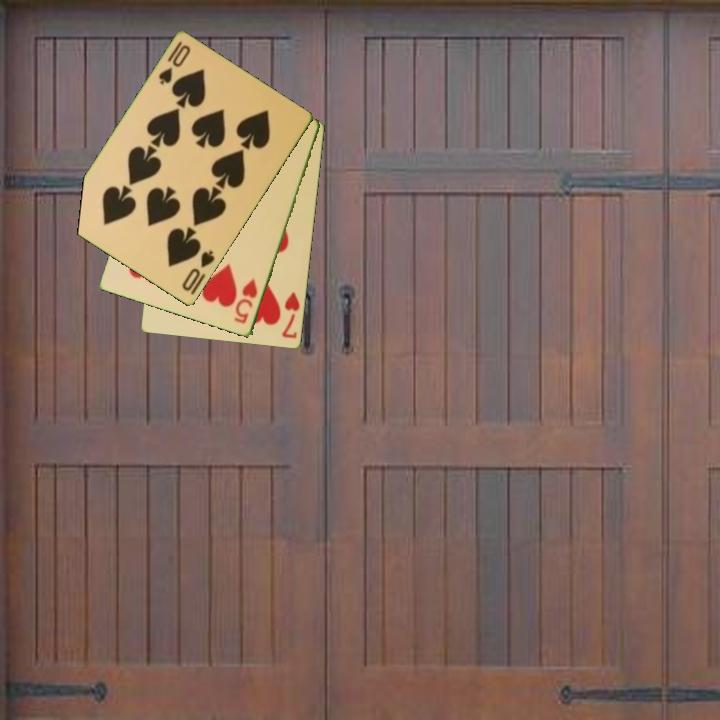10s: (155, 38, 194, 88), (178, 247, 218, 295)
5h: (231, 276, 261, 327)
7h: (278, 289, 303, 341)
